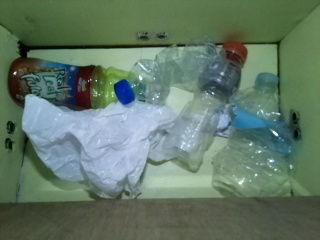bottle: (163, 41, 249, 172), (7, 56, 145, 111)
damaged-bottle: (212, 73, 296, 196), (114, 35, 217, 107)
plastic-bag: (20, 93, 179, 200)
